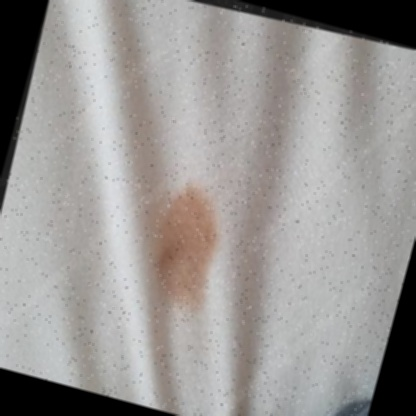kimchi: (128, 181, 240, 319)
